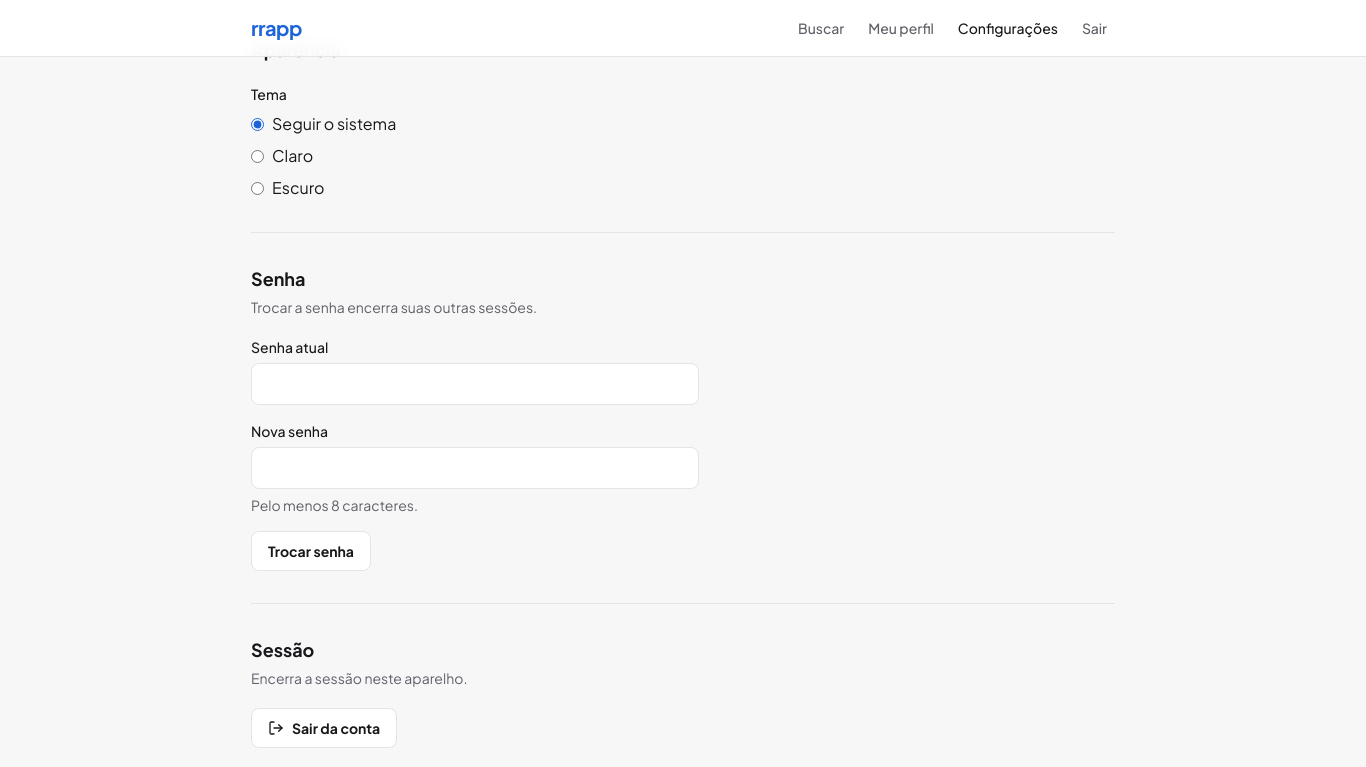
senha atual errada mostra a mensagem da API
(page scrolled)
Type "errada" into the password field labelled "Senha atual".
click(475, 384); type("errada")  # box [251,363,699,405]
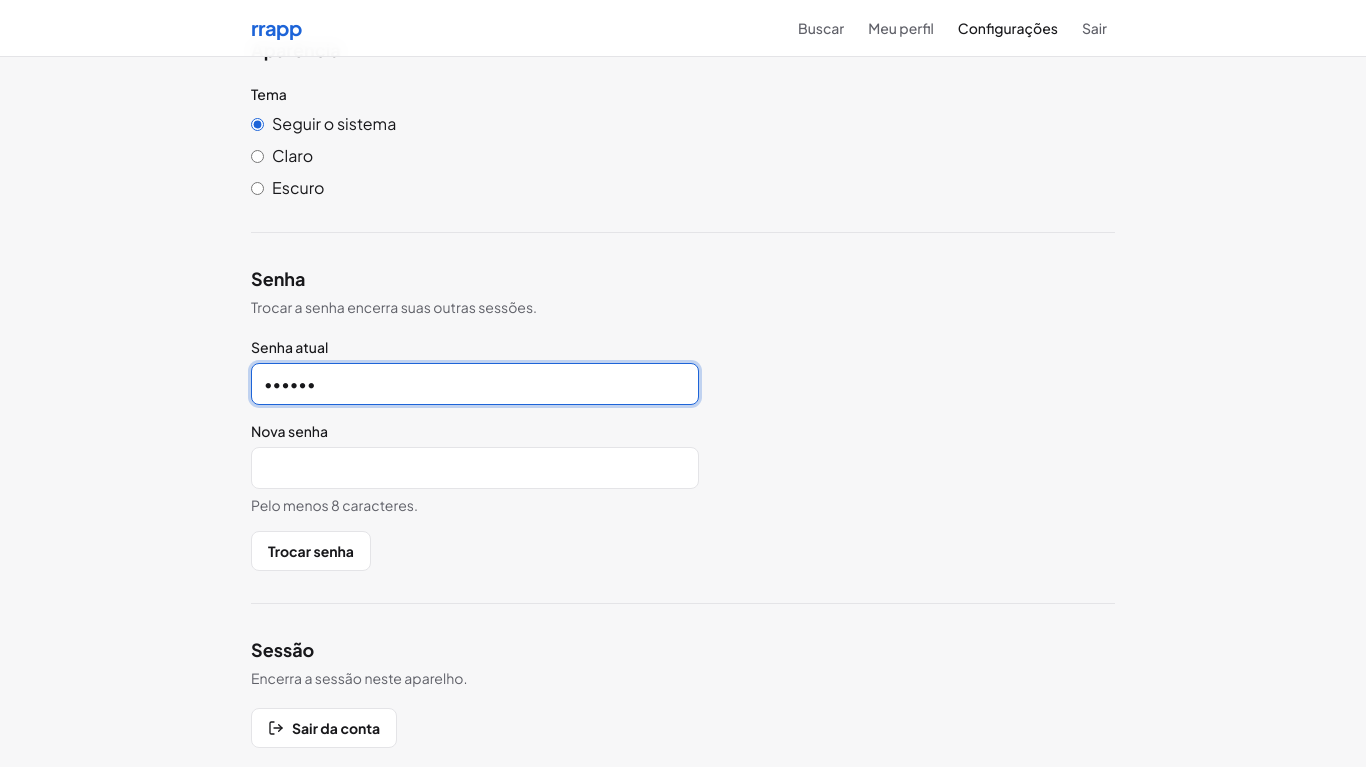
Type "outra-senha-forte" into the password field labelled "Nova senha".
click(475, 468); type("outra-senha-forte")  # box [251,447,699,489]
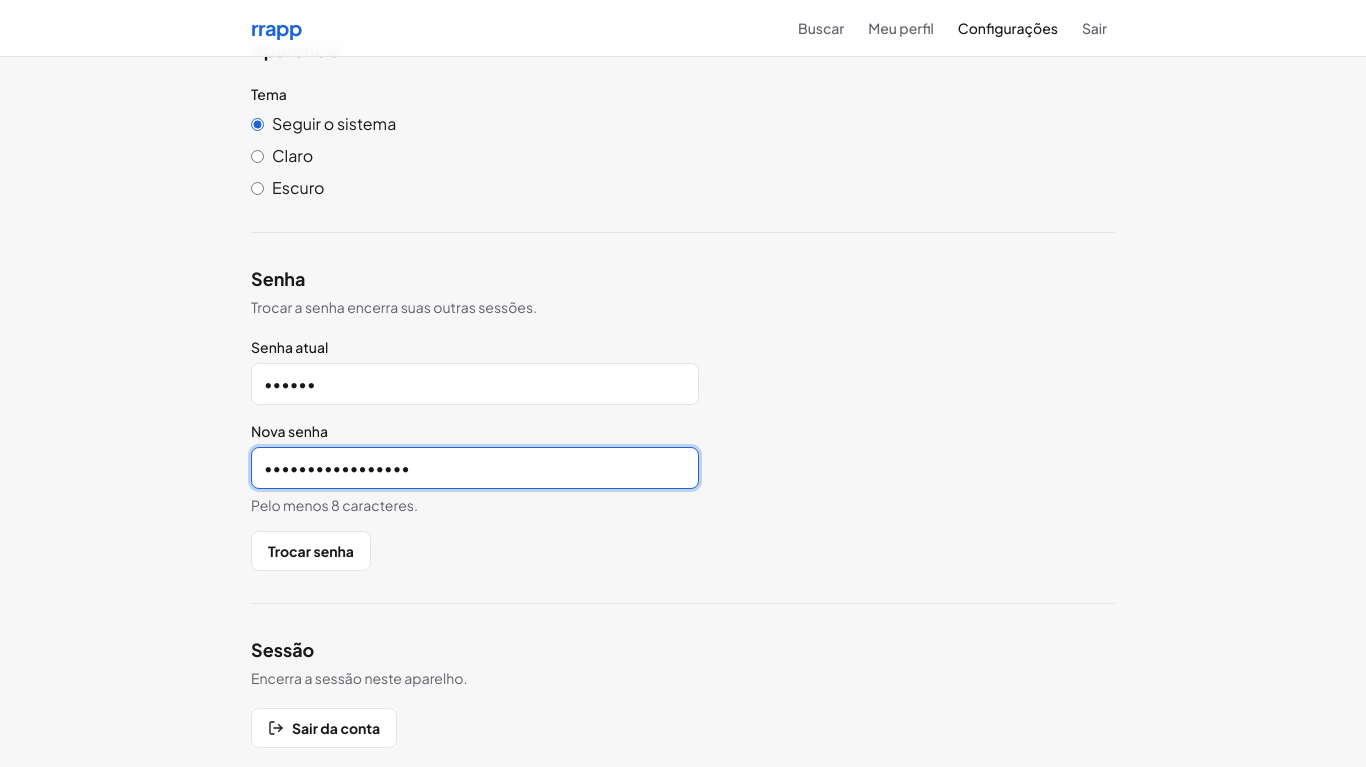
Click the button "Trocar senha".
click(311, 551)  # box [251,531,371,571]
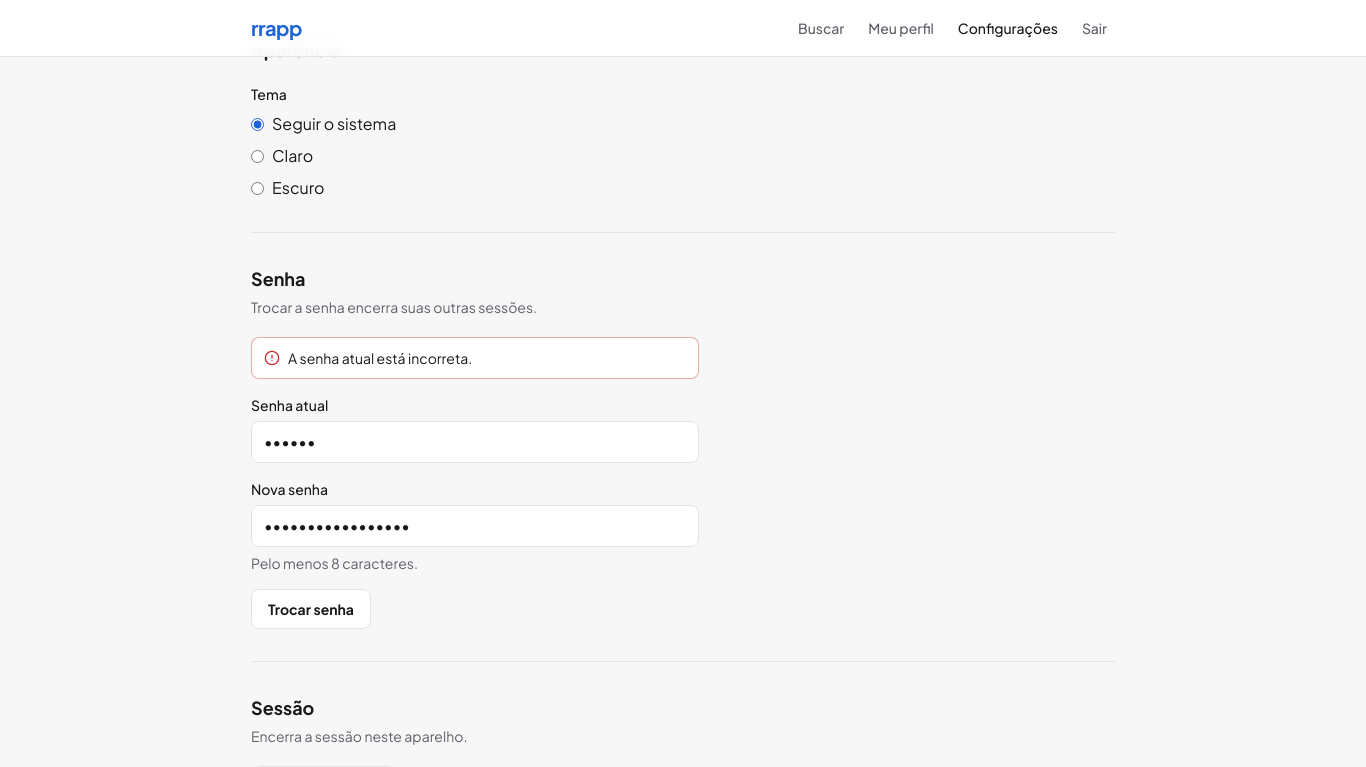
Result: the text "A senha atual está incorreta." is shown at [288,348,472,368]
